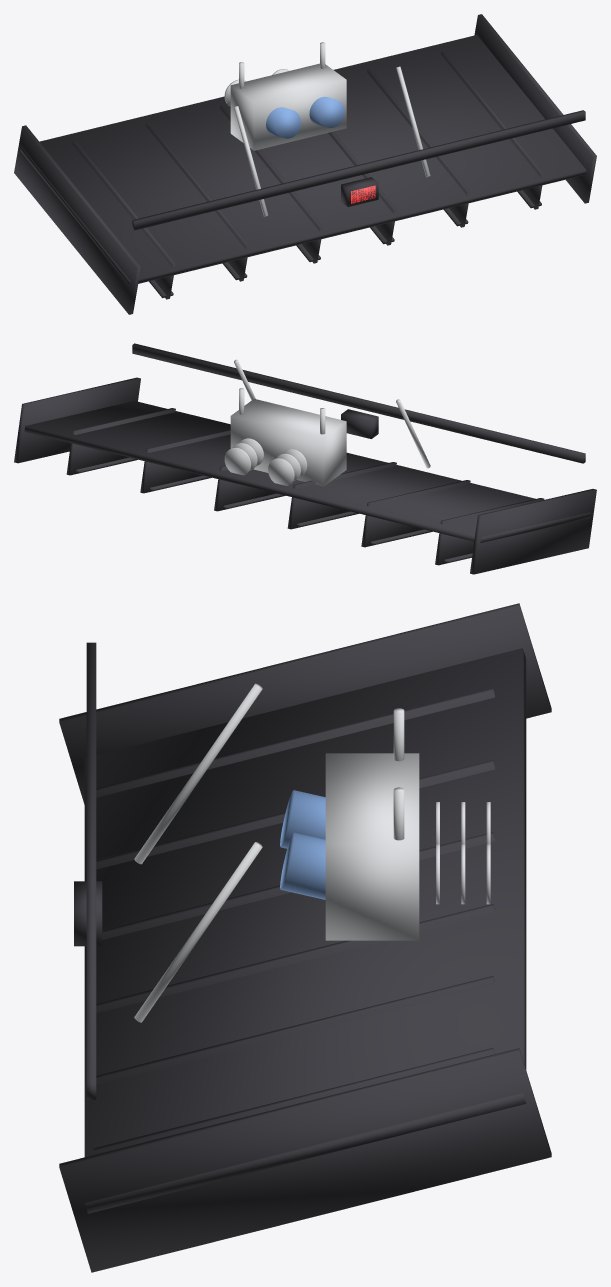
Rendered from gt3_diffuser_exhaust_01.glb.
3 views of the same model, one above another, from view 1: azimuth 30°, elevation 25°; view 2: azimuth 150°, elevation 25°; view 3: azimuth 270°, elevation 25° (orthographic). The views are drawn at different scales.
Visible parts, largest first — view 1: Diffuser_Curved_Ramp, Diffuser_Endplate_Left, Exhaust_Heat_Shield_Shroud, Diffuser_Gurney_Flap, Diffuser_Endplate_Right, Diffuser_Vortex_Strake_6, Diffuser_Vortex_Strake_1, Diffuser_Vortex_Strake_2, Diffuser_Vortex_Strake_5, Diffuser_Vortex_Strake_3, Exhaust_Center_Tip_Left, Exhaust_Center_Tip_Right (+4 smaller); view 2: Diffuser_Curved_Ramp, Diffuser_Endplate_Left, Exhaust_Heat_Shield_Shroud, Diffuser_Gurney_Flap, Diffuser_Endplate_Right, Diffuser_Vortex_Strake_2, Diffuser_Vortex_Strake_6, Diffuser_Vortex_Strake_5, Diffuser_Vortex_Strake_3, Diffuser_Vortex_Strake_1, Diffuser_Vortex_Strake_4, Diffuser_FIA_Rain_Bezel (+3 smaller); view 3: Diffuser_Curved_Ramp, Diffuser_Endplate_Right, Diffuser_Endplate_Left, Exhaust_Heat_Shield_Shroud, Diffuser_Gurney_Flap, Diffuser_Vortex_Strake_5, Diffuser_Vortex_Strake_1, Diffuser_Vortex_Strake_4, Diffuser_Vortex_Strake_6, Diffuser_Vortex_Strake_2, Exhaust_Center_Tip_Right, Diffuser_Vortex_Strake_3 (+4 smaller).
Boxes of the visible parts, x1=… form: Diffuser_Curved_Ramp: x1=20, y1=35, x2=586, y2=285; Diffuser_Endplate_Left: x1=14, y1=125, x2=140, y2=314; Exhaust_Heat_Shield_Shroud: x1=230, y1=63, x2=346, y2=150; Diffuser_Gurney_Flap: x1=132, y1=110, x2=585, y2=230; Diffuser_Endplate_Right: x1=474, y1=14, x2=596, y2=203; Diffuser_Vortex_Strake_6: x1=440, y1=50, x2=544, y2=209; Diffuser_Vortex_Strake_1: x1=72, y1=140, x2=175, y2=299; Diffuser_Vortex_Strake_2: x1=146, y1=122, x2=249, y2=281; Diffuser_Vortex_Strake_5: x1=367, y1=68, x2=470, y2=227; Diffuser_Vortex_Strake_3: x1=219, y1=104, x2=323, y2=263; Exhaust_Center_Tip_Left: x1=266, y1=107, x2=301, y2=138; Exhaust_Center_Tip_Right: x1=309, y1=96, x2=344, y2=127; Diffuser_Curved_Ramp: x1=24, y1=401, x2=590, y2=542; Diffuser_Endplate_Left: x1=470, y1=489, x2=596, y2=574; Exhaust_Heat_Shield_Shroud: x1=230, y1=398, x2=346, y2=486; Diffuser_Gurney_Flap: x1=132, y1=343, x2=585, y2=463; Diffuser_Endplate_Right: x1=14, y1=377, x2=140, y2=463; Diffuser_Vortex_Strake_2: x1=361, y1=480, x2=470, y2=547; Diffuser_Vortex_Strake_6: x1=66, y1=408, x2=175, y2=475; Diffuser_Vortex_Strake_5: x1=140, y1=429, x2=230, y2=493; Diffuser_Vortex_Strake_3: x1=287, y1=462, x2=396, y2=529; Diffuser_Vortex_Strake_1: x1=435, y1=498, x2=544, y2=565; Diffuser_Vortex_Strake_4: x1=214, y1=465, x2=276, y2=511; Diffuser_FIA_Rain_Bezel: x1=341, y1=409, x2=378, y2=438; Diffuser_Curved_Ramp: x1=84, y1=648, x2=526, y2=1213; Diffuser_Endplate_Right: x1=59, y1=1048, x2=551, y2=1272; Diffuser_Endplate_Left: x1=59, y1=603, x2=551, y2=804; Exhaust_Heat_Shield_Shroud: x1=325, y1=753, x2=419, y2=940; Diffuser_Gurney_Flap: x1=86, y1=642, x2=96, y2=1099; Diffuser_Vortex_Strake_5: x1=96, y1=976, x2=494, y2=1085; Diffuser_Vortex_Strake_1: x1=96, y1=688, x2=494, y2=797; Diffuser_Vortex_Strake_4: x1=96, y1=904, x2=494, y2=1013; Diffuser_Vortex_Strake_6: x1=93, y1=1048, x2=494, y2=1154; Diffuser_Vortex_Strake_2: x1=96, y1=760, x2=494, y2=869; Exhaust_Center_Tip_Right: x1=280, y1=832, x2=325, y2=899; Diffuser_Vortex_Strake_3: x1=102, y1=832, x2=494, y2=939.
Size of the model in its own units: 1.59 by 0.4929 by 0.7362.
